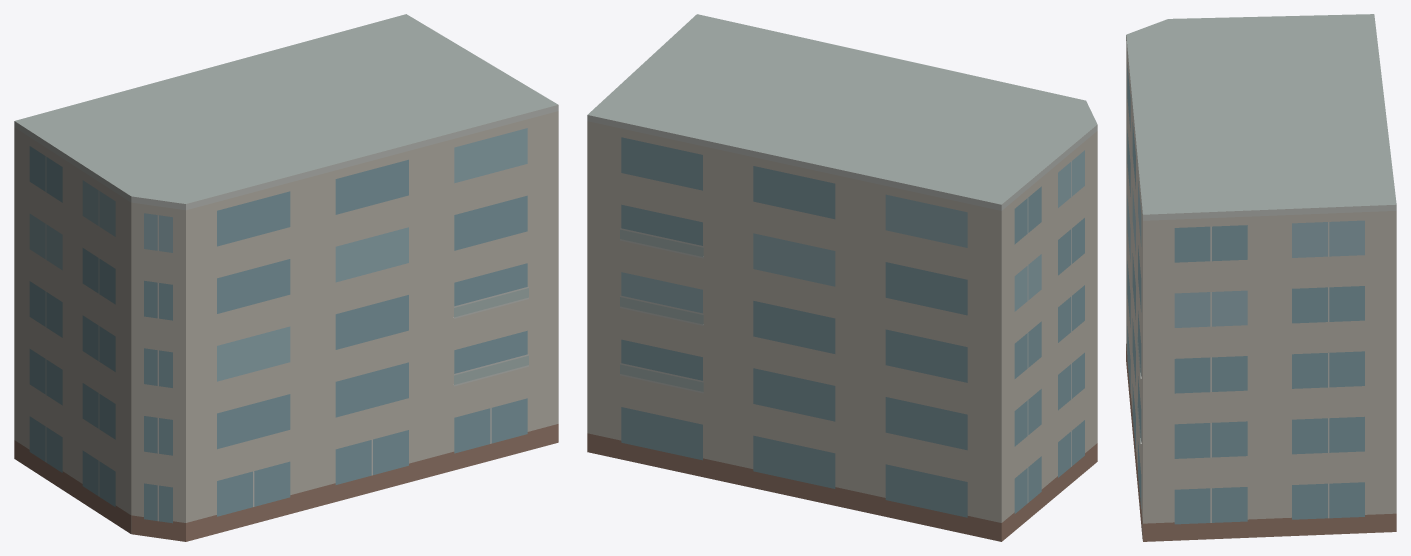
Rendered from survey-upis-32972858.glb.
The picture shows the model from 3 angles, left to right: view 1: azimuth 30°, elevation 25°; view 2: azimuth 150°, elevation 25°; view 3: azimuth 270°, elevation 25°; orthographic projection. The views are drawn at different scales.
Parts seen in each view (by area): view 1: survey-upis-32972858.tmp; view 2: survey-upis-32972858.tmp; view 3: survey-upis-32972858.tmp.
Boxes of the visible parts, x1,y1,x2,y2 form: survey-upis-32972858.tmp: (14, 14, 558, 541); survey-upis-32972858.tmp: (587, 14, 1097, 541); survey-upis-32972858.tmp: (1126, 14, 1396, 541).
Size of the model in its own units: 17.38 by 13.2 by 9.9.
